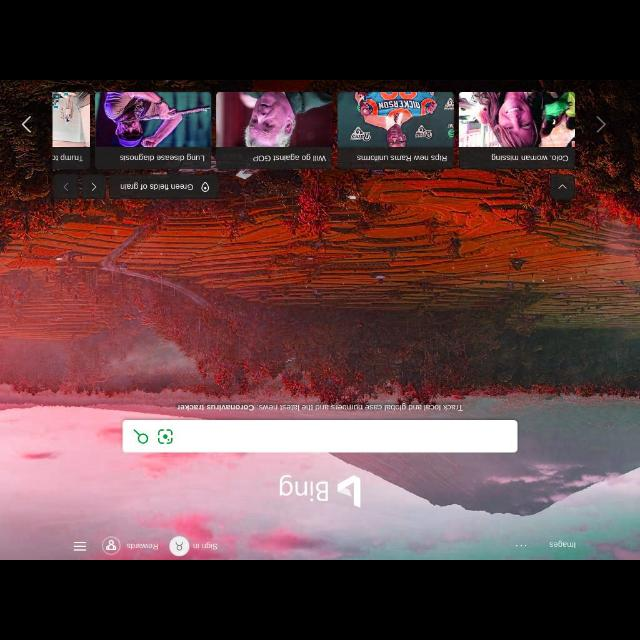backgroundimage: (1, 81, 639, 558)
button: (55, 174, 77, 198), (83, 175, 105, 198), (102, 536, 120, 556)
icon: (156, 428, 174, 444), (132, 428, 150, 444), (596, 115, 606, 133), (22, 115, 32, 133), (73, 540, 87, 552), (90, 180, 98, 192), (514, 542, 528, 548), (202, 180, 208, 192), (64, 182, 70, 192)
image: (336, 474, 364, 510), (169, 536, 191, 556)
input: (122, 420, 518, 452)
text: (175, 401, 462, 412), (279, 474, 329, 504), (119, 152, 207, 164), (491, 152, 569, 164), (251, 153, 327, 163), (118, 182, 194, 192), (357, 154, 447, 162), (127, 540, 159, 552), (52, 154, 82, 166), (193, 541, 219, 551), (550, 540, 576, 548)
